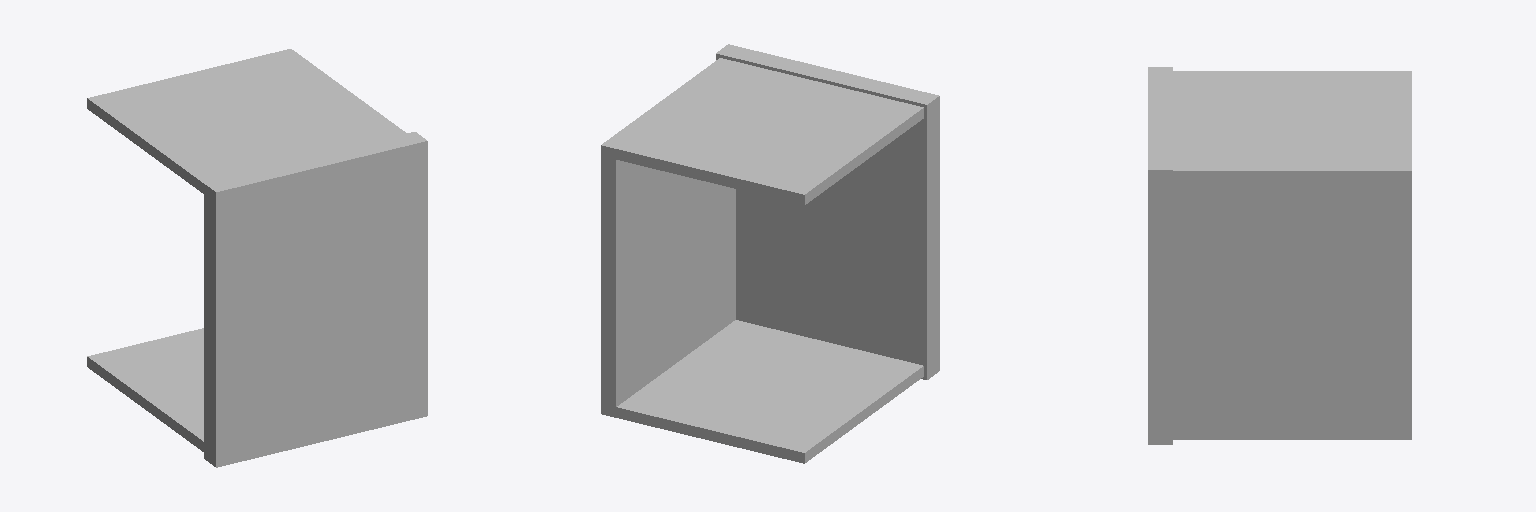
File: table_narrow.obj
3 views of the same model, side by side, from view 1: azimuth 30°, elevation 25°; view 2: azimuth 150°, elevation 25°; view 3: azimuth 270°, elevation 25° (orthographic).
Parts seen in each view (by area): view 1: table-bb_triangulated_narrow_table-bb_triangulated_narrow.002; view 2: table-bb_triangulated_narrow_table-bb_triangulated_narrow.002; view 3: table-bb_triangulated_narrow_table-bb_triangulated_narrow.002.
Part boxes in pixels (x1,y1,x2,y2): table-bb_triangulated_narrow_table-bb_triangulated_narrow.002: (87,49,427,467); table-bb_triangulated_narrow_table-bb_triangulated_narrow.002: (601,44,939,463); table-bb_triangulated_narrow_table-bb_triangulated_narrow.002: (1148,67,1411,444).
Size of the model in its own units: 0.68 by 0.8458 by 0.7353.